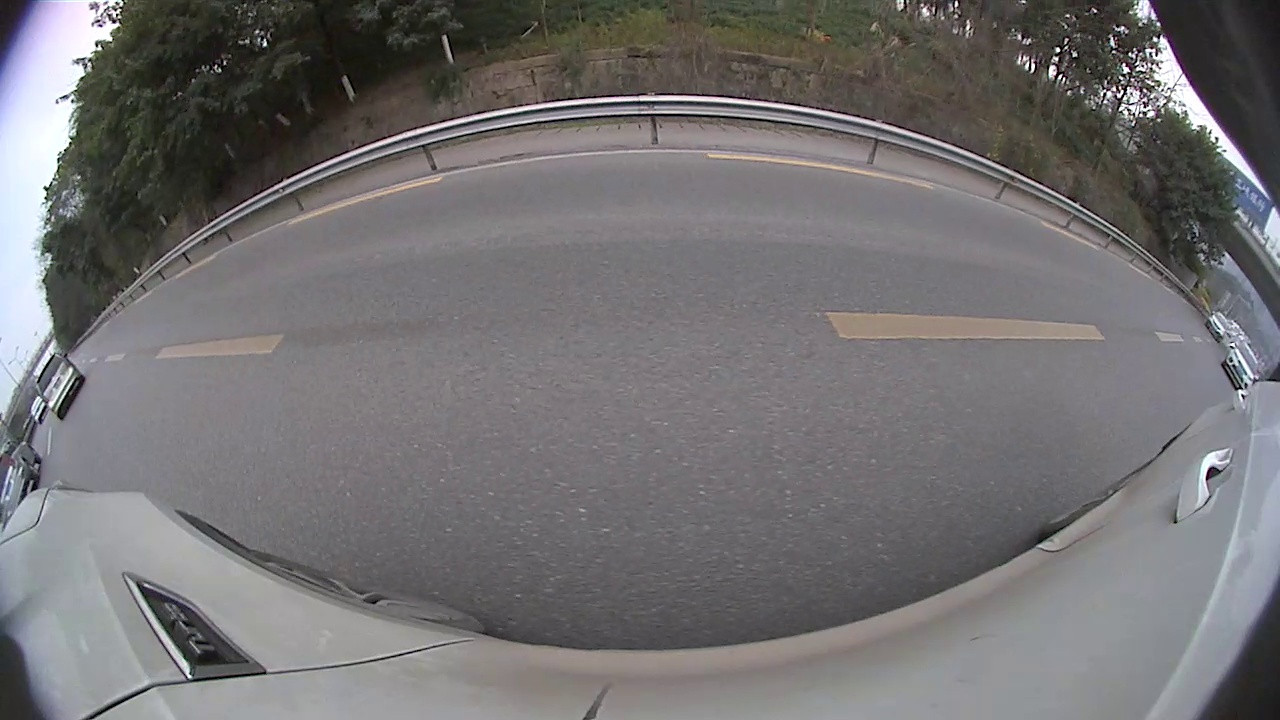car: (0, 437, 43, 534), (34, 352, 87, 421), (1221, 339, 1262, 392), (1204, 309, 1231, 343), (28, 394, 51, 425)
